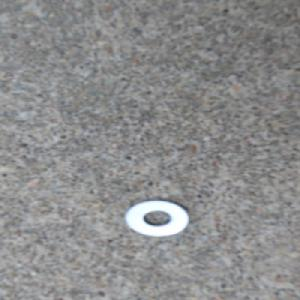Washer: (120, 197, 194, 240)
